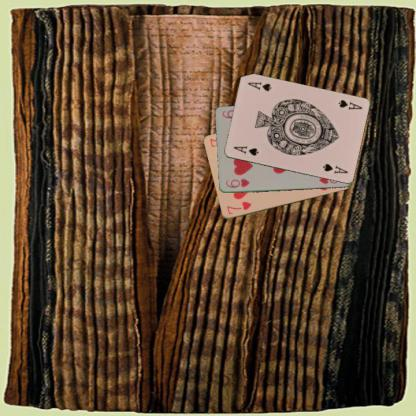6h: (222, 176, 251, 190)
7h: (224, 199, 253, 216)
As: (231, 143, 260, 157), (336, 97, 363, 111)
